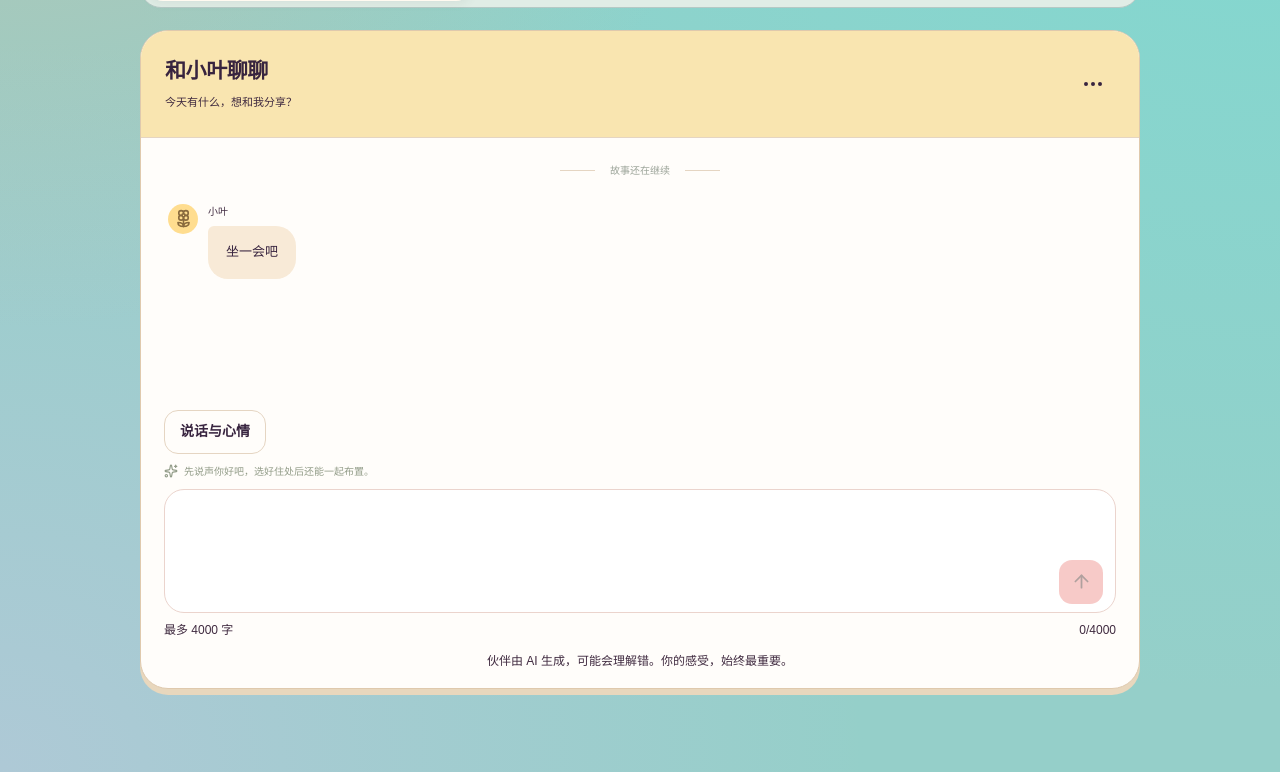
Test: prevents duplicate Enter/click while streaming and uses saved history
(page scrolled)
In the text box named "想对伙伴说的话": (640, 528) left=177, top=495, right=1103, bottom=560, type "你好"
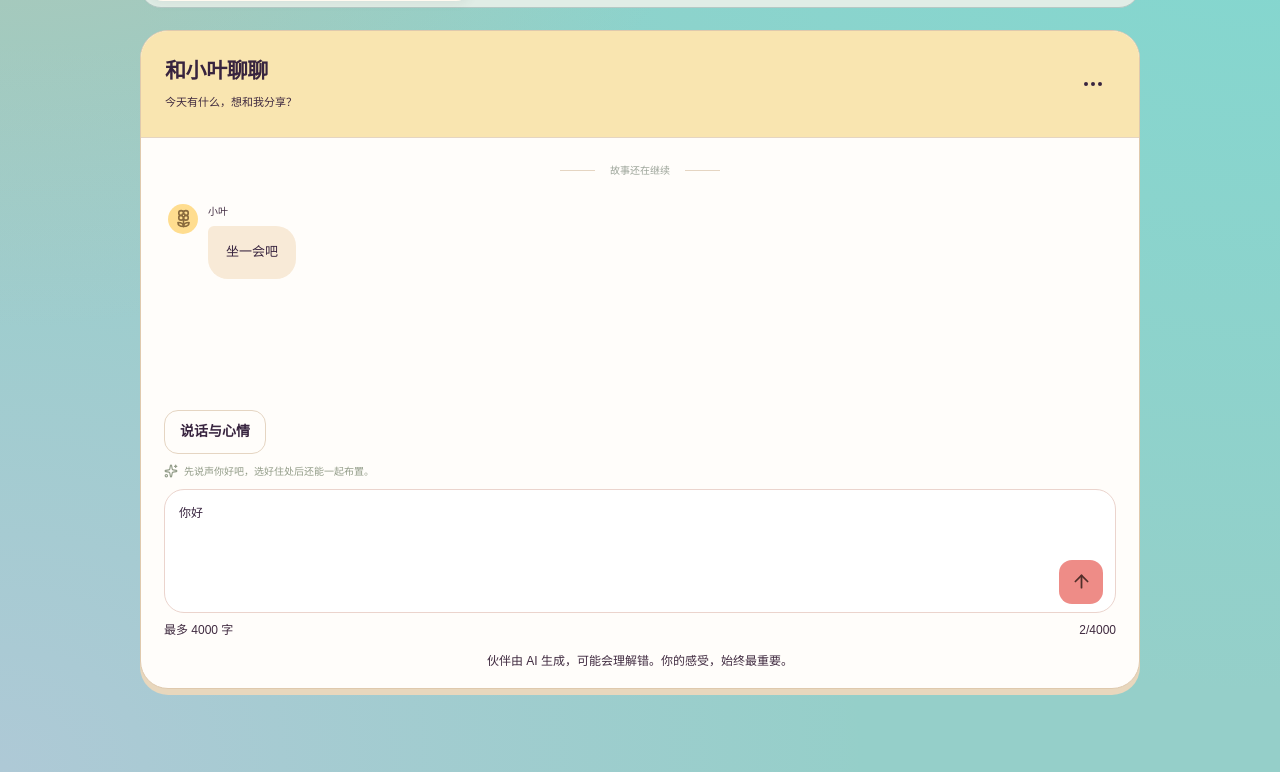
Press Enter in the text box named "想对伙伴说的话", box left=177, top=495, right=1103, bottom=560
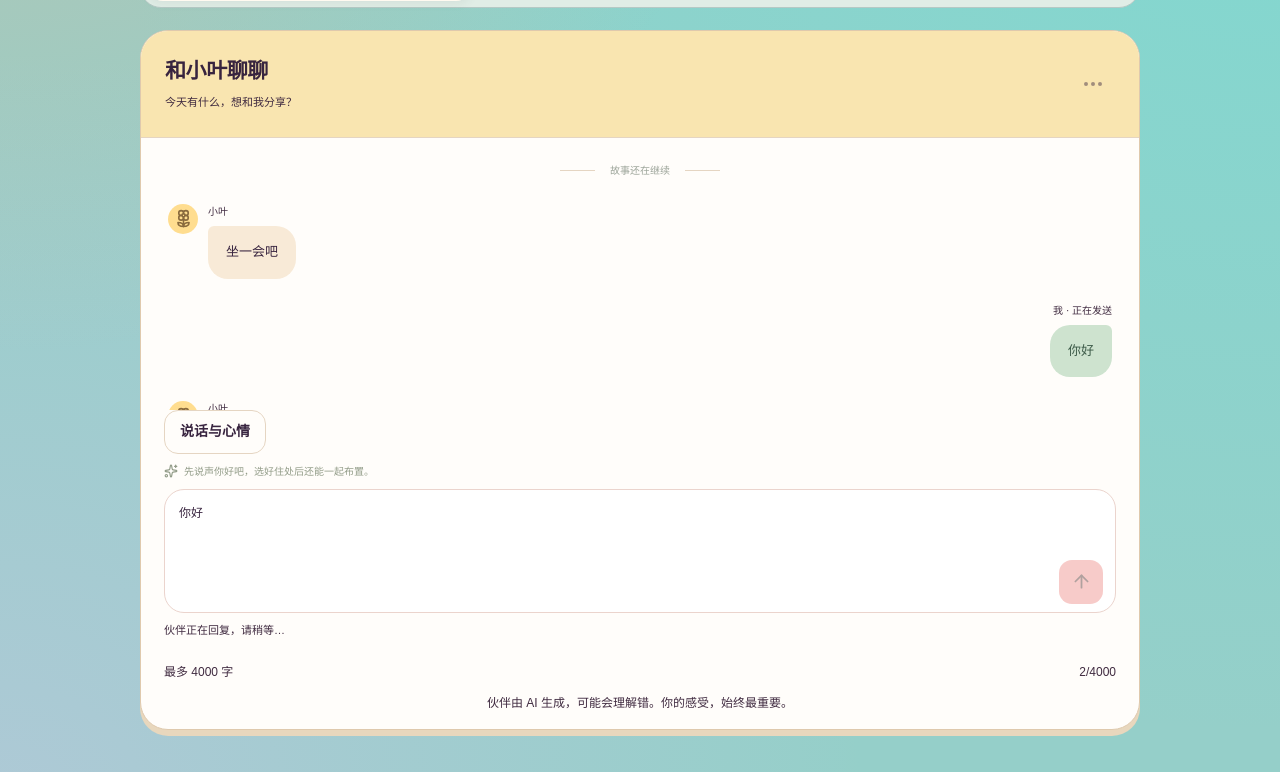
Press Enter in the text box named "想对伙伴说的话", box left=177, top=495, right=1103, bottom=560
Click the button named "发送消息": click(1081, 582) left=1059, top=560, right=1103, bottom=604
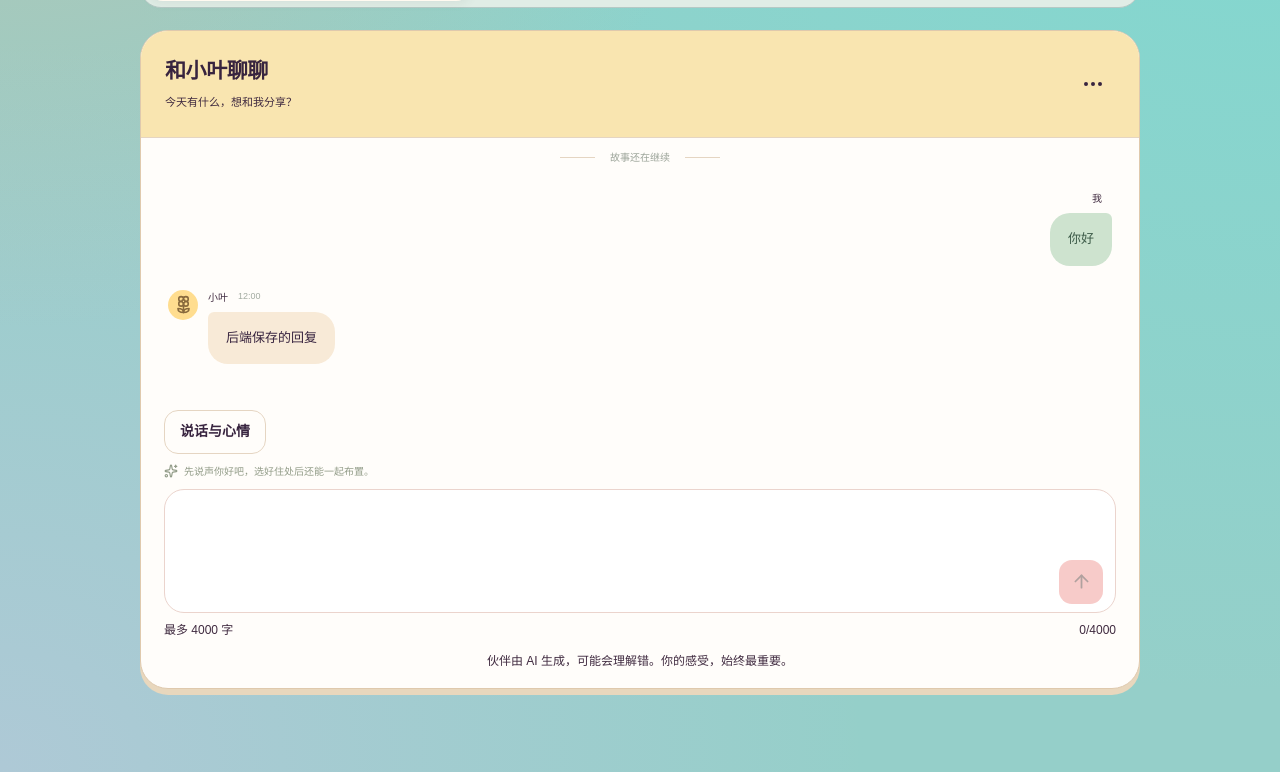
Now the text "后端保存的回复" is shown, box left=208, top=312, right=335, bottom=364
Now the text box named "想对伙伴说的话" is empty, box left=177, top=495, right=1103, bottom=560
